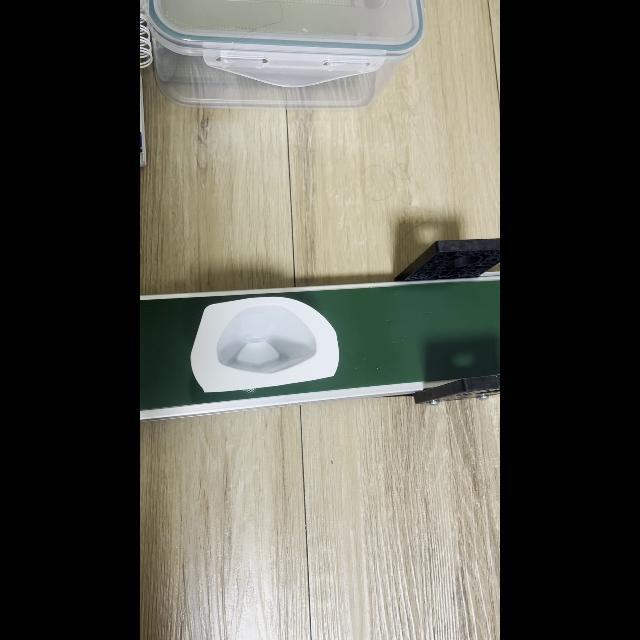clean: (192, 302, 334, 383)
